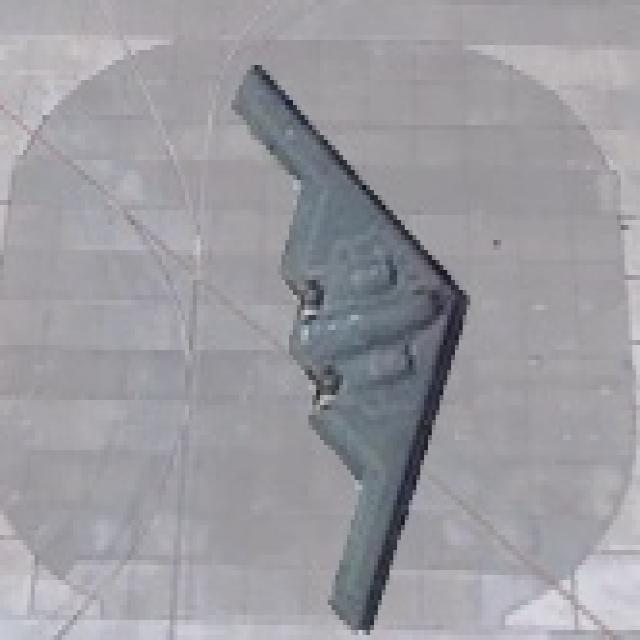B-2_TopDown: (224, 55, 470, 630)
